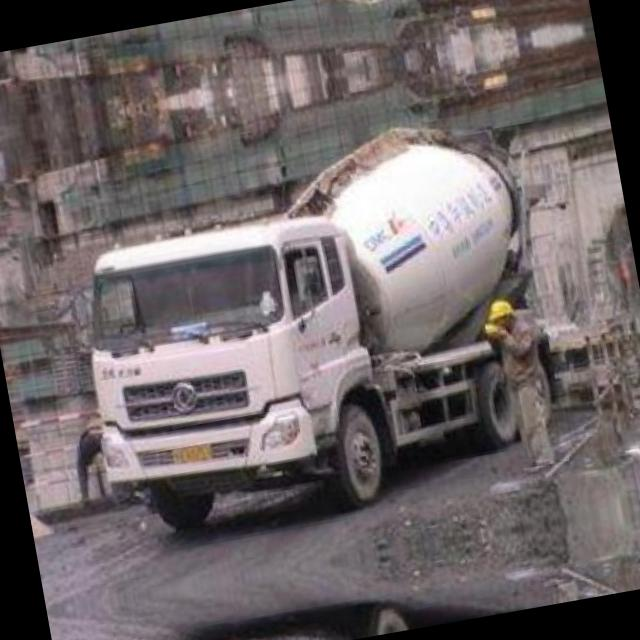helmet: (484, 295, 520, 331)
